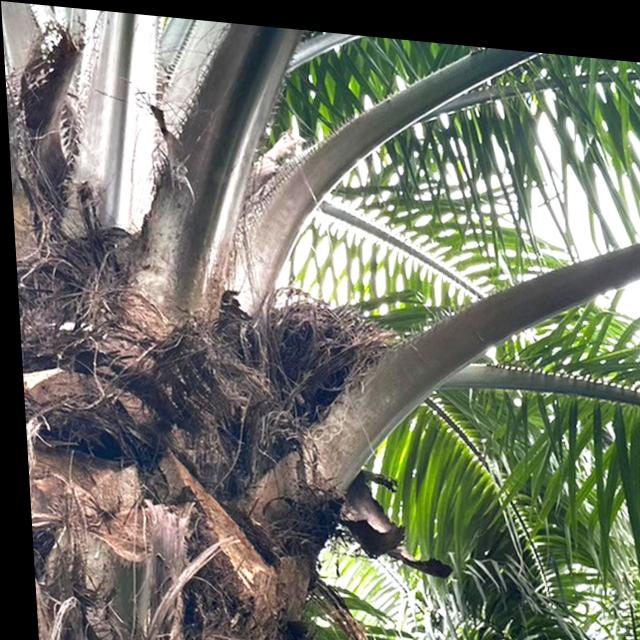unripe: (248, 274, 411, 440)
